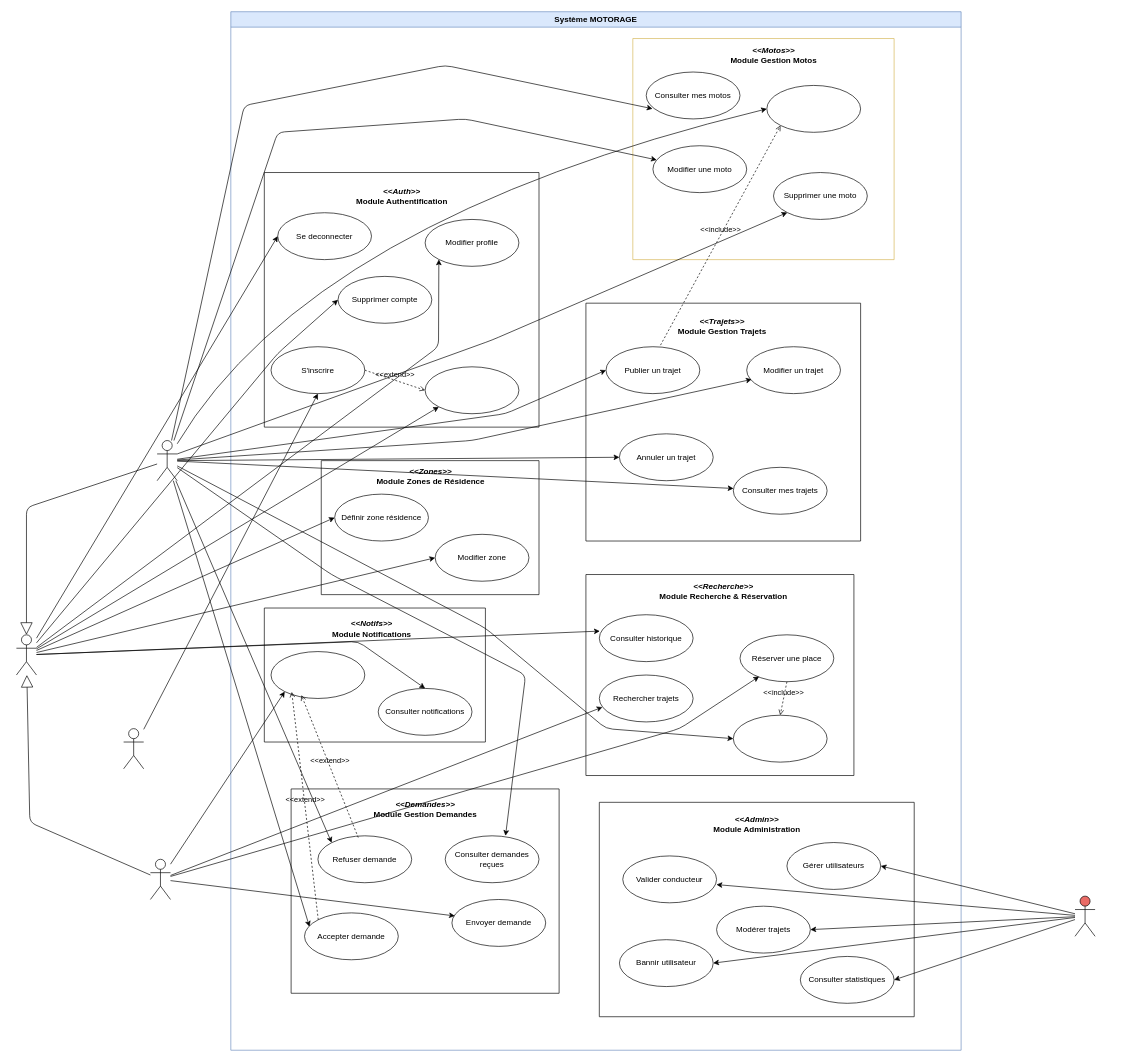
Image size: 1122x1062. Some labels were removed from this diagram. The shapes that lost their labels are listed below. From the top down, each one's box as (x1, y1, x2, y2) in pixels, then its label:
(766, 85, 861, 132): Ajouter une moto
(424, 366, 519, 414): Se connecter
(156, 440, 177, 481): Conducteur
(16, 634, 37, 675): Étudiant
(270, 651, 365, 698): Recevoir notification
(123, 728, 144, 769): Visiteur
(733, 715, 827, 762): Consulter détails trajet
(150, 859, 171, 899): Passager
(1074, 895, 1095, 936): Administrateur
